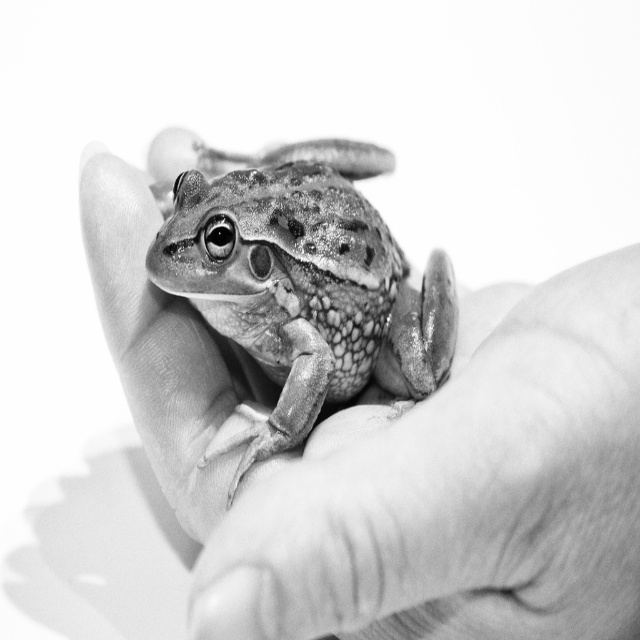Frog: (146, 137, 458, 507)
